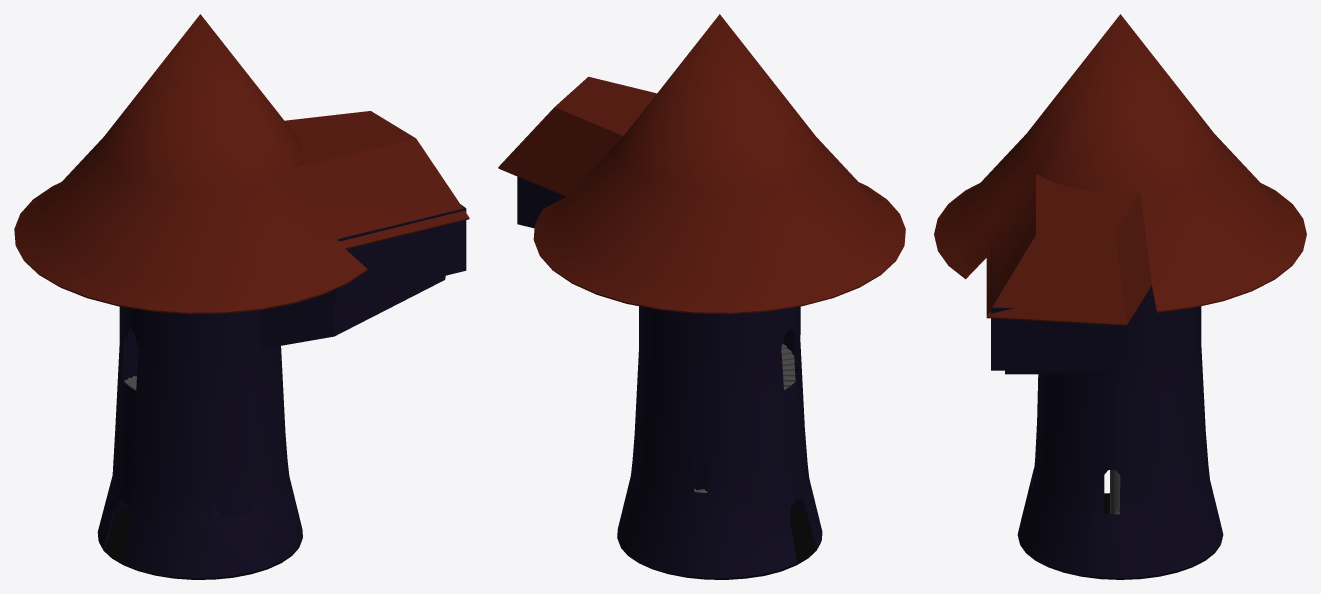
File: Tower 3.fbx
The picture shows the model from 3 angles, left to right: view 1: azimuth 30°, elevation 25°; view 2: azimuth 150°, elevation 25°; view 3: azimuth 270°, elevation 25°; orthographic projection.
Parts seen in each view (by area): view 1: Cone, Cylinder.001, Circle.001, Circle; view 2: Cone, Cylinder.001, Circle.001, Circle, Cube; view 3: Cone, Cylinder.001, Circle.001, Circle.
Part boxes in pixels (x1=…): Cone: x1=14, y1=14, x2=469, y2=314; Cylinder.001: x1=97, y1=306, x2=302, y2=578; Circle.001: x1=260, y1=204, x2=466, y2=349; Circle: x1=99, y1=506, x2=299, y2=579; Cone: x1=498, y1=14, x2=905, y2=314; Cylinder.001: x1=617, y1=306, x2=822, y2=578; Circle.001: x1=517, y1=176, x2=565, y2=228; Circle: x1=619, y1=506, x2=820, y2=579; Cube: x1=694, y1=344, x2=795, y2=492; Cone: x1=934, y1=14, x2=1306, y2=325; Cylinder.001: x1=1017, y1=286, x2=1223, y2=578; Circle.001: x1=991, y1=245, x2=1122, y2=374; Circle: x1=1020, y1=493, x2=1220, y2=579.
Size of the model in its own units: 2361 by 3109 by 2007.
